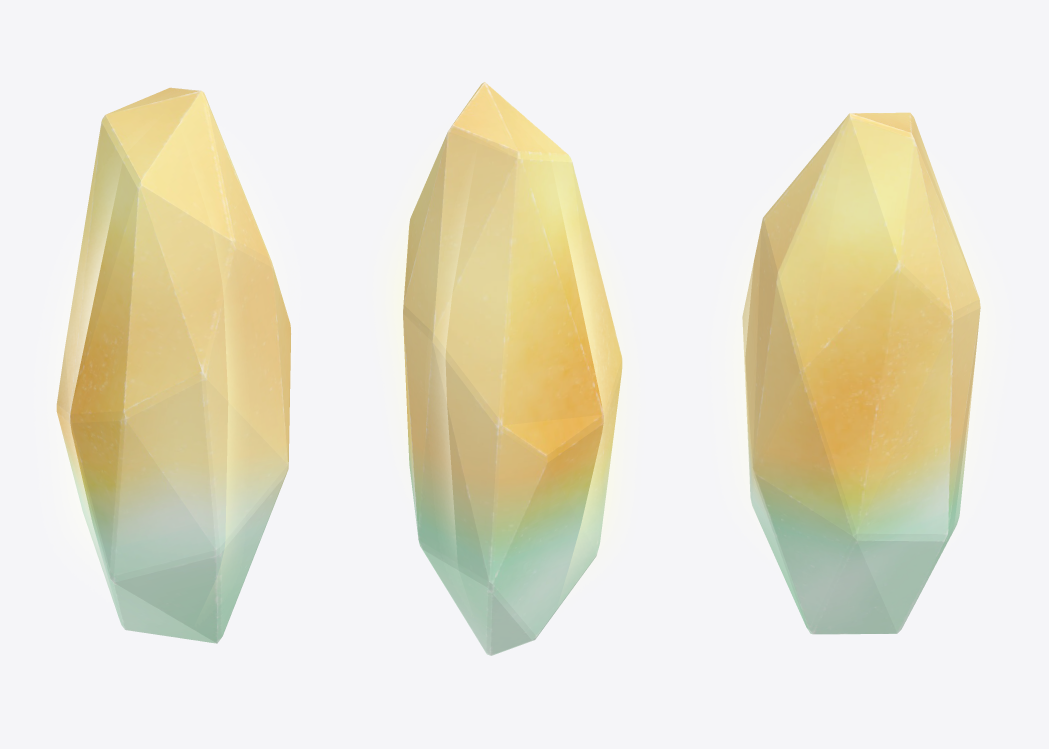
File: gem_E.glb
3 renders of one model, left to right at view 1: azimuth 30°, elevation 25°; view 2: azimuth 150°, elevation 25°; view 3: azimuth 270°, elevation 25°, orthographic. The views are drawn at different scales.
Parts seen in each view (by area): view 1: E, light-E; view 2: E, light-E; view 3: E, light-E.
Part boxes in pixels (box(x1,y1,x2,y2)): E: box(56, 87, 290, 643); light-E: box(46, 156, 288, 581); E: box(403, 82, 622, 655); light-E: box(385, 173, 627, 581); E: box(742, 112, 980, 634); light-E: box(724, 182, 996, 531).
Bounding box in the file's own units: 2.98 × 5.45 × 2.98.
Materials: 2 (2 with a texture image).
